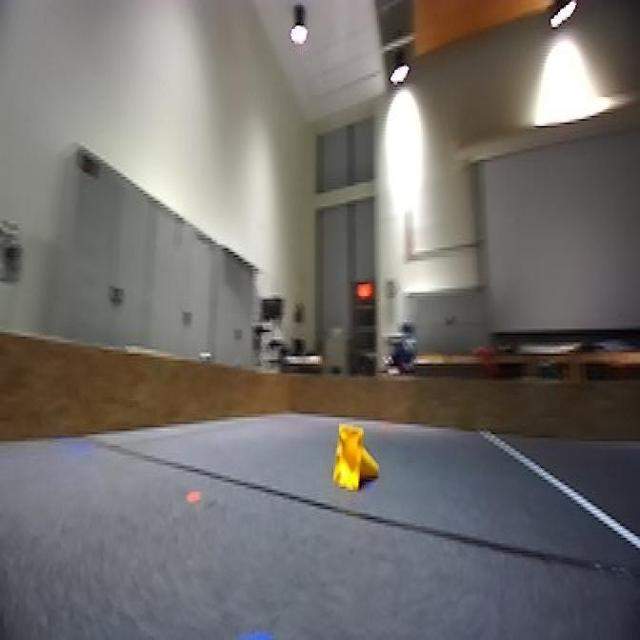frc_cone: (329, 426, 376, 498)
